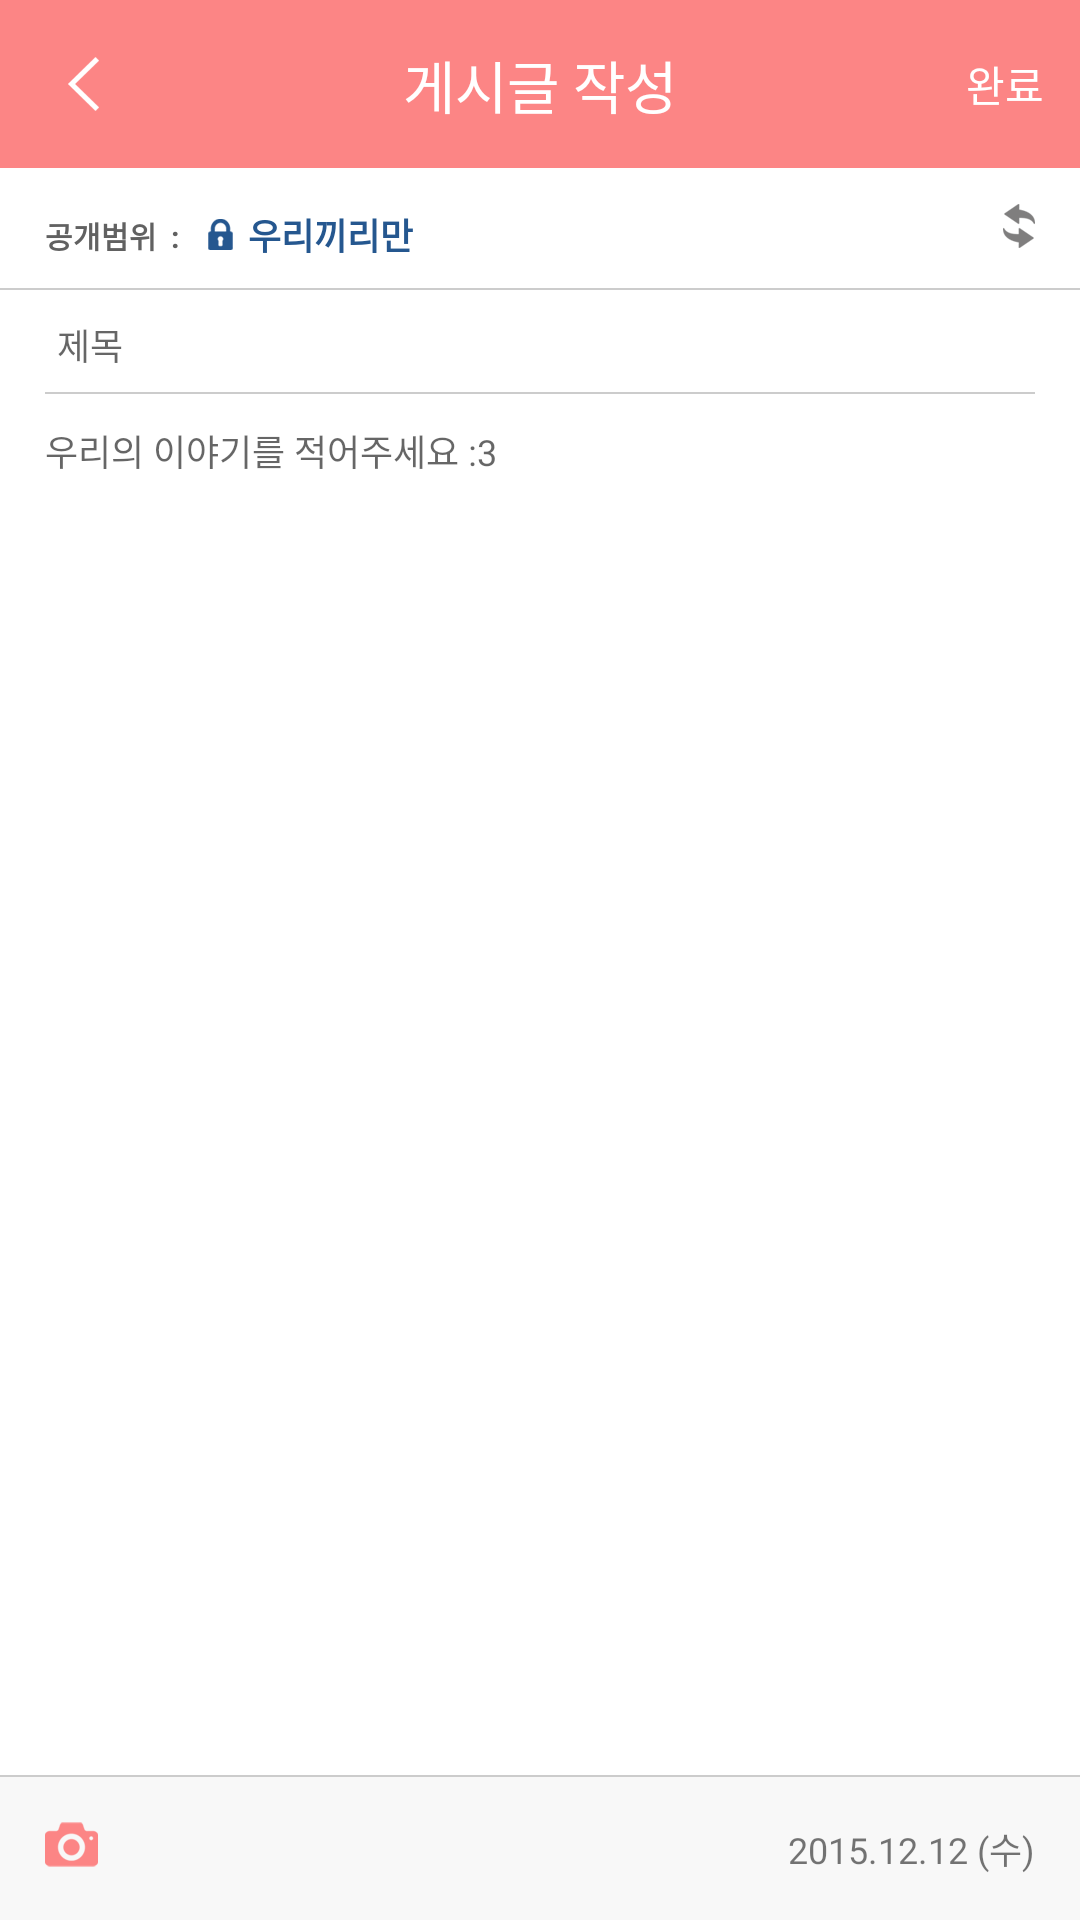

Point at icon controls on the screen. Image size 1080w x 1920h, points as (x=x, y=y).
arrow: (x=83, y=84)
carmera: (x=71, y=1844)
chagne: (x=1019, y=226)
rocked: (x=220, y=234)
